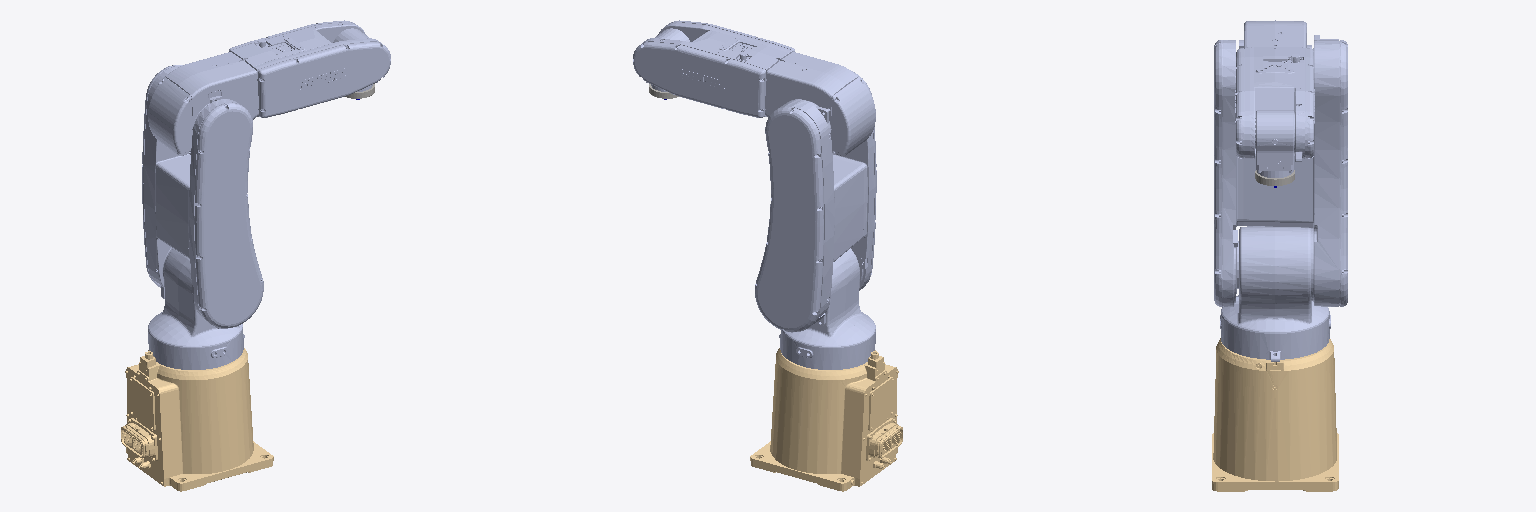
The robot description file, URDF, robot "RA605.SLDASM":
<?xml version="1.0" encoding="utf-8"?>
<!-- This URDF was automatically created by SolidWorks to URDF Exporter! Originally created by Stephen Brawner (brawner@gmail.com) 
     Commit Version: 1.6.0-4-g7f85cfe  Build Version: 1.6.7995.38578
     For more information, please see http://wiki.ros.org/sw_urdf_exporter -->
<robot
  name="RA605.SLDASM">
  <link
    name="base_link">
    <inertial>
      <origin
        xyz="-0.12853 -0.01705 0.068164"
        rpy="0 0 0" />
      <mass
        value="7.7086E-06" />
      <inertia
        ixx="3.6064E-12"
        ixy="-1.8252E-22"
        ixz="-1.3388E-13"
        iyy="4.1328E-12"
        iyz="-1.465E-21"
        izz="7.4357E-12" />
    </inertial>
    <visual>
      <origin
        xyz="0 0 0"
        rpy="0 0 0" />
      <geometry>
        <mesh
          filename="./meshes/base_link.STL" />
      </geometry>
      <material
        name="">
        <color
          rgba="1 0.8902 0.7098 1" />
      </material>
    </visual>
    <collision>
      <origin
        xyz="0 0 0"
        rpy="0 0 0" />
      <geometry>
        <mesh
          filename="./meshes/base_link.STL" />
      </geometry>
    </collision>
  </link>
  <link
    name="Link1">
    <inertial>
      <origin
        xyz="0.012604 -0.0042468 0.088586"
        rpy="0 0 0" />
      <mass
        value="2.7846" />
      <inertia
        ixx="0.012895"
        ixy="0.00020506"
        ixz="-0.0019527"
        iyy="0.013803"
        iyz="0.00072198"
        izz="0.0084823" />
    </inertial>
    <visual>
      <origin
        xyz="0 0 0"
        rpy="0 0 0" />
      <geometry>
        <mesh
          filename="./meshes/Link1.STL" />
      </geometry>
      <material
        name="">
        <color
          rgba="0.79216 0.81961 0.93333 1" />
      </material>
    </visual>
    <collision>
      <origin
        xyz="0 0 0"
        rpy="0 0 0" />
      <geometry>
        <mesh
          filename="./meshes/Link1.STL" />
      </geometry>
    </collision>
  </link>
  <joint
    name="Joint1"
    type="revolute">
    <origin
      xyz="-0.0045962 0 0.22398"
      rpy="0 -0.034907 0" />
    <parent
      link="base_link" />
    <child
      link="Link1" />
    <axis
      xyz="0 0 -1" />
    <limit
      lower="-2.8797933"
      upper="2.8797933"
      effort="100"
      velocity="1" />
  </joint>
  <link
    name="Link2">
    <inertial>
      <origin
        xyz="-0.0099321 0.15013 0.020425"
        rpy="0 0 0" />
      <mass
        value="7.6263" />
      <inertia
        ixx="0.14834"
        ixy="0.00059196"
        ixz="0.0004036"
        iyy="0.049968"
        iyz="-0.00065863"
        izz="0.11493" />
    </inertial>
    <visual>
      <origin
        xyz="0 0 0"
        rpy="0 0 0" />
      <geometry>
        <mesh
          filename="./meshes/Link2.STL" />
      </geometry>
      <material
        name="">
        <color
          rgba="0.79216 0.81961 0.93333 1" />
      </material>
    </visual>
    <collision>
      <origin
        xyz="0 0 0"
        rpy="0 0 0" />
      <geometry>
        <mesh
          filename="./meshes/Link2.STL" />
      </geometry>
    </collision>
  </link>
  <joint
    name="Joint2"
    type="revolute">
    <origin
      xyz="0.03 0.0383 0.151"
      rpy="1.5708 0 0" />
    <parent
      link="Link1" />
    <child
      link="Link2" />
    <axis
      xyz="0 0 -1" />
    <limit
      lower="-1.4835299"
      upper="2.1816616"
      effort="100"
      velocity="1" />
  </joint>
  <link
    name="Link3">
    <inertial>
      <origin
        xyz="0.0052575 0.019432 0.050623"
        rpy="0 0 0" />
      <mass
        value="2.3277" />
      <inertia
        ixx="0.0054056"
        ixy="-0.00094218"
        ixz="1.6547E-05"
        iyy="0.0078784"
        iyz="5.4039E-05"
        izz="0.0092192" />
    </inertial>
    <visual>
      <origin
        xyz="0 0 0"
        rpy="0 0 0" />
      <geometry>
        <mesh
          filename="./meshes/Link3.STL" />
      </geometry>
      <material
        name="">
        <color
          rgba="0.79216 0.81961 0.93333 1" />
      </material>
    </visual>
    <collision>
      <origin
        xyz="0 0 0"
        rpy="0 0 0" />
      <geometry>
        <mesh
          filename="./meshes/Link3.STL" />
      </geometry>
    </collision>
  </link>
  <joint
    name="Joint3"
    type="revolute">
    <origin
      xyz="0 0.34 -0.011"
      rpy="0 0 0" />
    <parent
      link="Link2" />
    <child
      link="Link3" />
    <axis
      xyz="0 0 1" />
    <limit
      lower="-0.95993109"
      upper="3.2288591"
      effort="100"
      velocity="1" />
  </joint>
  <link
    name="Link4">
    <inertial>
      <origin
        xyz="1.8166E-05 9.1138E-05 0.11394"
        rpy="0 0 0" />
      <mass
        value="3.0358" />
      <inertia
        ixx="0.018108"
        ixy="1.4547E-06"
        ixz="6.5679E-06"
        iyy="0.020248"
        iyz="6.2879E-06"
        izz="0.007326" />
    </inertial>
    <visual>
      <origin
        xyz="0 0 0"
        rpy="0 0 0" />
      <geometry>
        <mesh
          filename="./meshes/Link4.STL" />
      </geometry>
      <material
        name="">
        <color
          rgba="0.79216 0.81961 0.93333 1" />
      </material>
    </visual>
    <collision>
      <origin
        xyz="0 0 0"
        rpy="0 0 0" />
      <geometry>
        <mesh
          filename="./meshes/Link4.STL" />
      </geometry>
    </collision>
  </link>
  <joint
    name="Joint4"
    type="revolute">
    <origin
      xyz="0.099 0.04 0.0493"
      rpy="0 1.5708 0" />
    <parent
      link="Link3" />
    <child
      link="Link4" />
    <axis
      xyz="0 0 -1" />
    <limit
      lower="-3.3161256"
      upper="3.3161256"
      effort="100"
      velocity="1" />
  </joint>
  <link
    name="Link5">
    <inertial>
      <origin
        xyz="-1.2211E-06 -0.016723 -0.032472"
        rpy="0 0 0" />
      <mass
        value="0.43116" />
      <inertia
        ixx="0.00050781"
        ixy="-3.6444E-08"
        ixz="5.1464E-08"
        iyy="0.00029403"
        iyz="3.4359E-06"
        izz="0.00051675" />
    </inertial>
    <visual>
      <origin
        xyz="0 0 0"
        rpy="0 0 0" />
      <geometry>
        <mesh
          filename="./meshes/Link5.STL" />
      </geometry>
      <material
        name="">
        <color
          rgba="0.79216 0.81961 0.93333 1" />
      </material>
    </visual>
    <collision>
      <origin
        xyz="0 0 0"
        rpy="0 0 0" />
      <geometry>
        <mesh
          filename="./meshes/Link5.STL" />
      </geometry>
    </collision>
  </link>
  <joint
    name="Joint5"
    type="revolute">
    <origin
      xyz="-0.032 0 0.239"
      rpy="3.1416 -1.5708 3.1416" />
    <parent
      link="Link4" />
    <child
      link="Link5" />
    <axis
      xyz="0 0 -1" />
    <limit
      lower="-2.0071286"
      upper="2.0071286"
      effort="100"
      velocity="1" />
  </joint>
  <link
    name="Link6">
    <inertial>
      <origin
        xyz="-6.3046E-05 1.0946E-12 0.0093351"
        rpy="0 0 0" />
      <mass
        value="0.034935" />
      <inertia
        ixx="9.7338E-06"
        ixy="-1.0088E-15"
        ixz="1.328E-08"
        iyy="9.6985E-06"
        iyz="1.7295E-16"
        izz="1.815E-05" />
    </inertial>
    <visual>
      <origin
        xyz="0 0 0"
        rpy="0 0 0" />
      <geometry>
        <mesh
          filename="./meshes/Link6.STL" />
      </geometry>
      <material
        name="">
        <color
          rgba="0.7451 0.73725 0.72941 1" />
      </material>
    </visual>
    <collision>
      <origin
        xyz="0 0 0"
        rpy="0 0 0" />
      <geometry>
        <mesh
          filename="./meshes/Link6.STL" />
      </geometry>
    </collision>
  </link>
  <joint
    name="Joint6"
    type="revolute">
    <origin
      xyz="0 -0.0685 -0.032"
      rpy="1.5708 0 0" />
    <parent
      link="Link5" />
    <child
      link="Link6" />
    <axis
      xyz="0 0 -1" />
    <limit
      lower="-6.28"
      upper="6.28"
      effort="100"
      velocity="1" />
  </joint>

  <link name="ee">
    <inertial>
      <origin xyz="0 0 0" rpy="0 0 0"/>
      <mass value="0.001"/>
      <inertia ixx="1e-5" ixy="0" ixz="0" iyy="1e-5" iyz="0" izz="1e-5"/>
    </inertial>
    <visual>
      <origin xyz="0 0 0" rpy="0 0 0"/>
      <geometry>
        <!-- 將長、寬、高皆設為0.005公尺 (0.5cm) -->
        <box size="0.005 0.005 0.02"/>
      </geometry>
      <material name="">
        <color rgba="0 0 0.8 1"/>
      </material>
    </visual>
    <collision>
      <origin xyz="0 0 0" rpy="0 0 0"/>
      <geometry>
        <box size="0.005 0.005 0.02"/>
      </geometry>
    </collision>
  </link>
  <joint name="ee_joint" type="fixed">
    <origin xyz="0 0 0.02" rpy="0 0 0"/>
    <parent link="Link6"/>
    <child link="ee"/>
  </joint>

</robot>

--- Facts derived from the render (not from the file) ---
3 views of the same robot in one strip: view 1: azimuth 30°, elevation 25°; view 2: azimuth 150°, elevation 25°; view 3: azimuth 270°, elevation 25° (orthographic).
Model RA605.SLDASM with 8 links and 7 joints (6 revolute, 1 fixed), rooted at base_link, posed every joint at zero.
Links seen in each view (by area): view 1: Link2, base_link, Link4, Link3, Link1; view 2: Link2, base_link, Link4, Link3, Link1; view 3: Link2, base_link, Link1, Link4, Link5, Link3.
Link boxes in pixels (x1,y1,x2,y2): Link2: (142,65,263,328); base_link: (121,348,273,491); Link4: (229,20,390,117); Link3: (148,52,258,155); Link1: (148,249,244,369); Link2: (755,71,876,332); base_link: (750,348,902,491); Link4: (633,20,794,117); Link3: (765,52,875,155); Link1: (779,248,875,369); Link2: (1214,35,1347,306); base_link: (1212,338,1338,491); Link1: (1220,226,1330,361); Link4: (1235,47,1314,161); Link5: (1256,110,1294,177); Link3: (1239,20,1311,48).
Size in the robot's own frame: 0.5368 by 0.2257 by 0.826 metres.
7 mesh visuals loaded from 7 distinct referenced files (7 binary STL).
